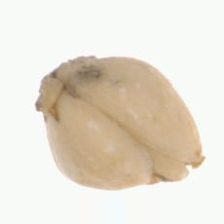L1: (36, 55, 91, 111), (151, 153, 205, 186)
L2: (35, 54, 206, 190)
